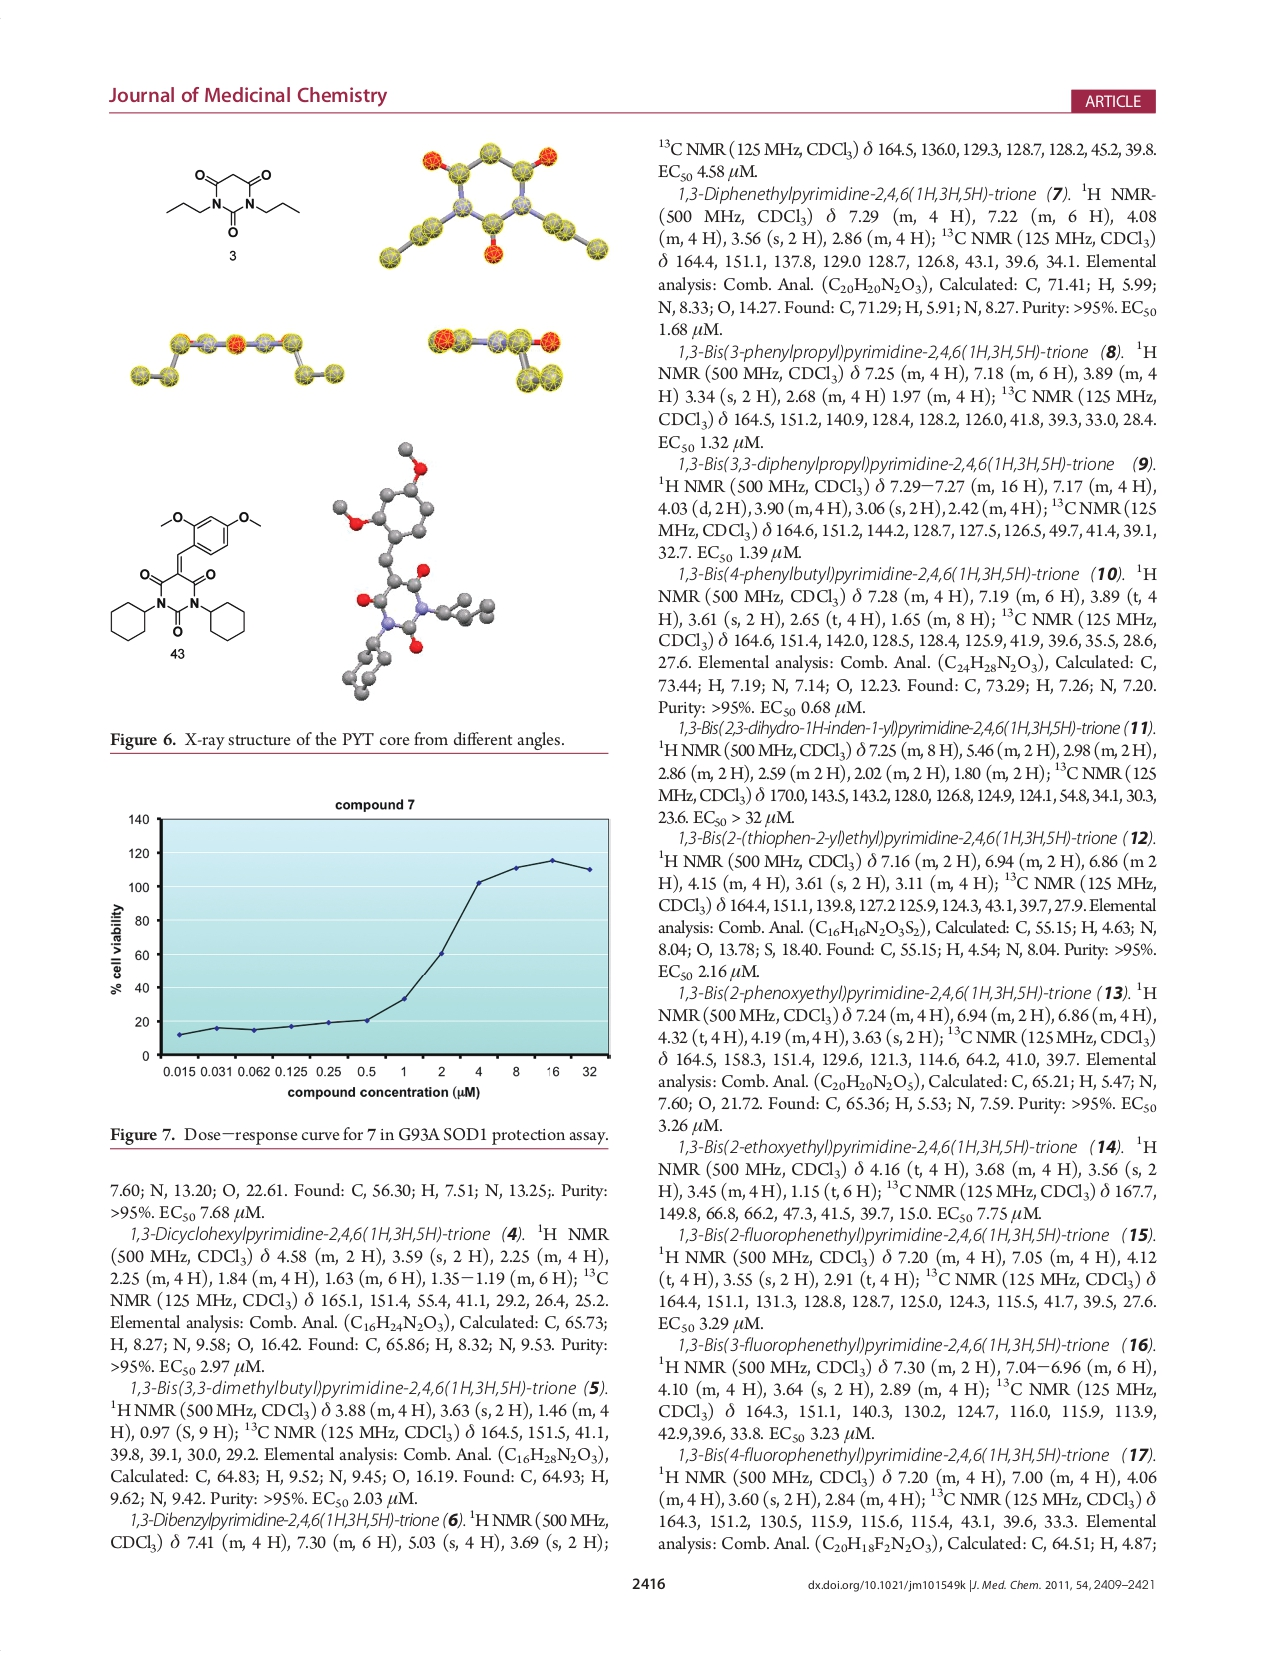exist_molecular: (102, 501, 265, 644), (164, 165, 305, 241)
